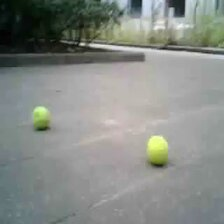tennis: (147, 135, 168, 163), (32, 106, 49, 127)
